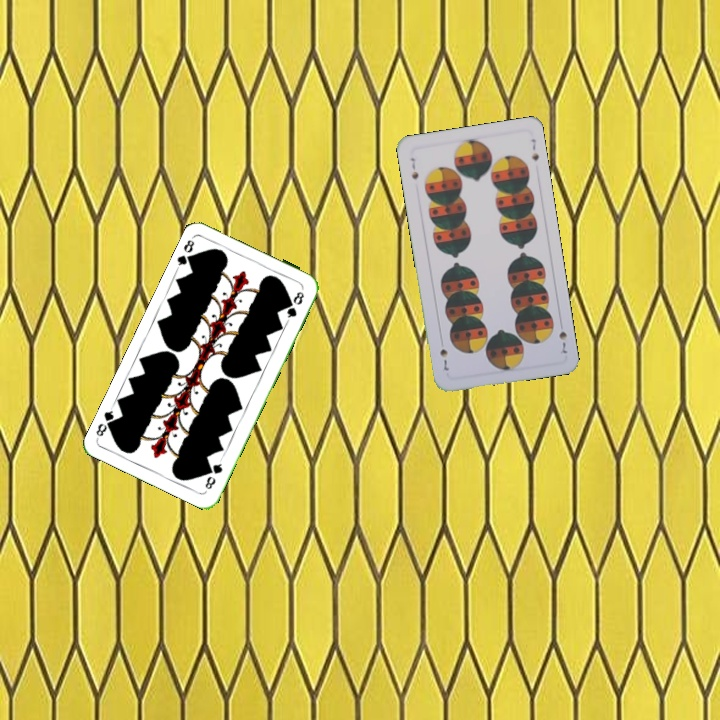G8: (173, 233, 198, 271), (201, 455, 225, 492)
S7: (555, 327, 570, 357), (406, 154, 421, 182)
